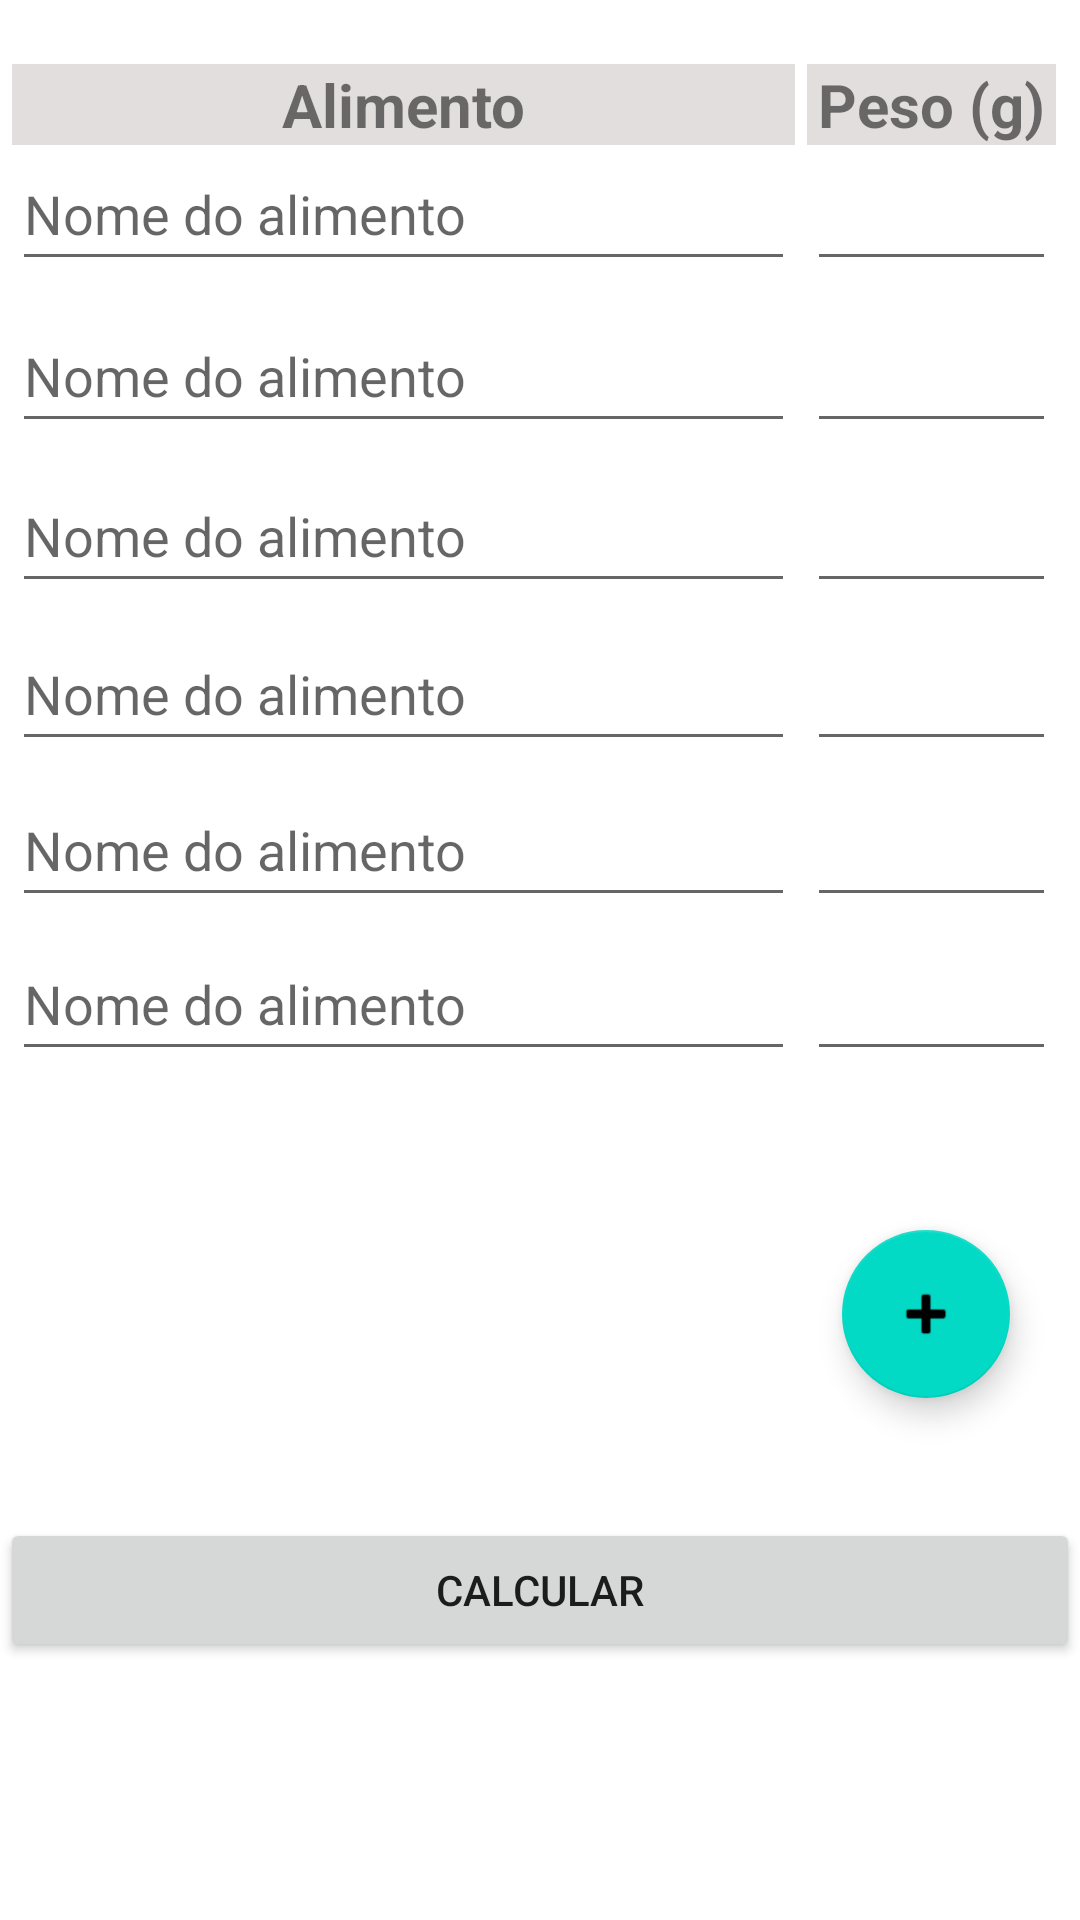

Screen size 1080 × 1920. Icon name, then its box in pixels as {"left": x1, "top": y1, "right": x2, "bottom": y2}:
add: {"left": 842, "top": 1230, "right": 1010, "bottom": 1398}
